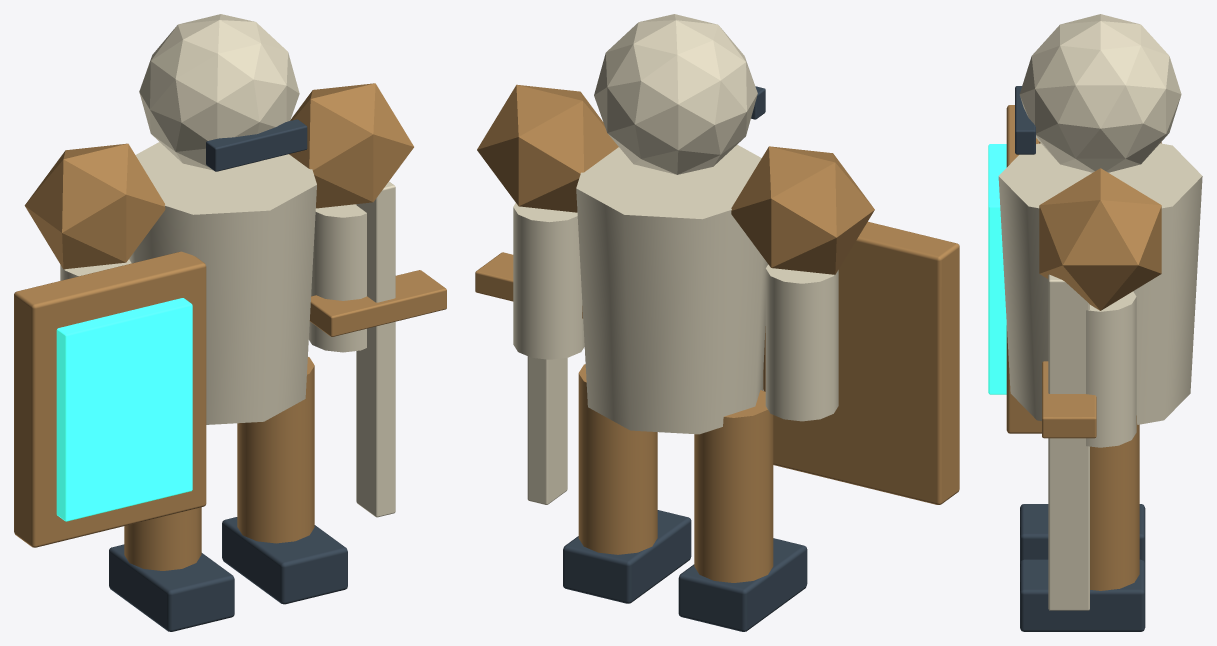
Rendered from sunfall-rift-moba-dawn-warden-26abb3ad__21981.glb.
3 renders of one model, left to right at view 1: azimuth 30°, elevation 25°; view 2: azimuth 150°, elevation 25°; view 3: azimuth 270°, elevation 25°, orthographic. The views are drawn at different scales.
Visible parts, largest first — view 1: dawn-warden; view 2: dawn-warden; view 3: dawn-warden.
Part boxes in pixels (<box>): dawn-warden: <box>14,14,446,631</box>; dawn-warden: <box>475,14,959,631</box>; dawn-warden: <box>988,14,1202,631</box>.
Bounding box in the file's own units: 1.93 × 2.4 × 0.821.
